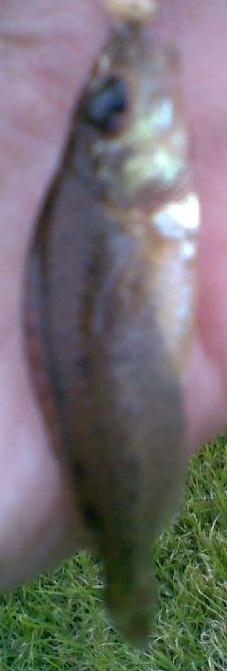Gymnocephalus cernuus: (20, 20, 207, 651)
